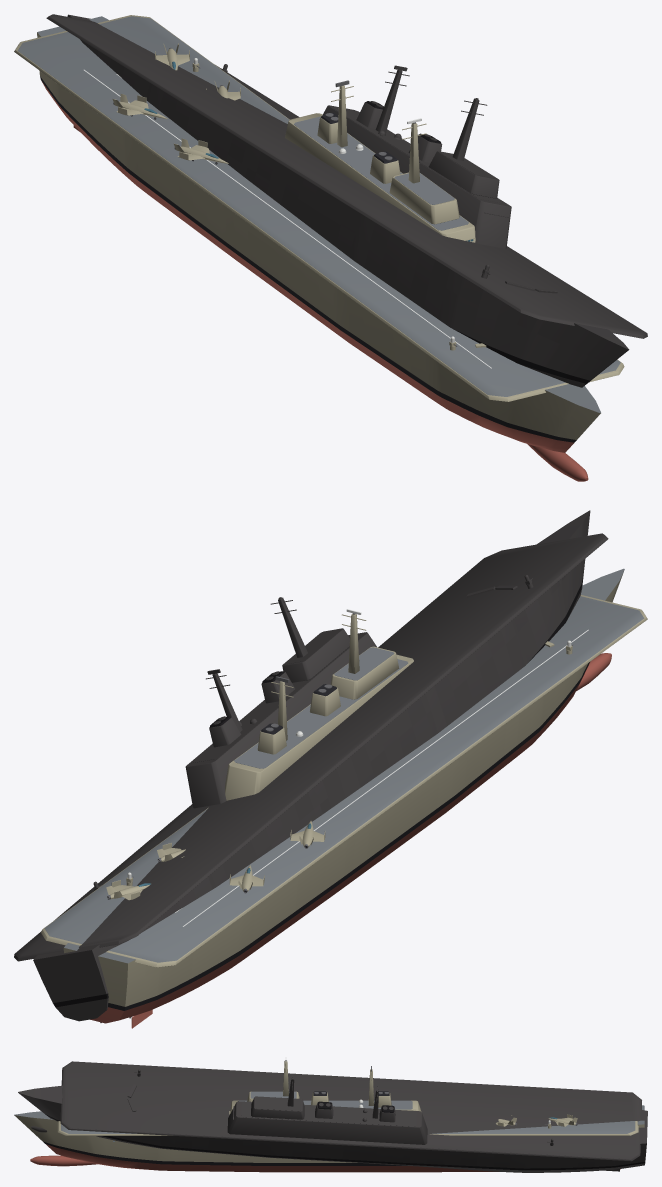
File: carrier__kaga_f_35b.glb
3 views of the same model, one above another, from view 1: azimuth 30°, elevation 25°; view 2: azimuth 150°, elevation 25°; view 3: azimuth 270°, elevation 25° (orthographic). The views are drawn at different scales.
Parts seen in each view (by area): view 1: Hull_Mesh, Wreck, DeckPlane2_Mesh, DeckPlane3_Mesh; view 2: Wreck, Hull_Mesh; view 3: Wreck, Hull_Mesh, DeckPlane0_Mesh.
Part boxes in pixels (<box>): Hull_Mesh: <box>14,15,624,481</box>; Wreck: <box>46,14,647,387</box>; DeckPlane2_Mesh: <box>112,94,167,119</box>; DeckPlane3_Mesh: <box>174,138,228,164</box>; Wreck: <box>14,510,608,1022</box>; Hull_Mesh: <box>41,568,647,1028</box>; Wreck: <box>18,1061,647,1172</box>; Hull_Mesh: <box>14,1061,644,1172</box>; DeckPlane0_Mesh: <box>548,1114,577,1126</box>.
Size of what is drawn, in the model's own units: 52.98 by 54.75 by 260.
